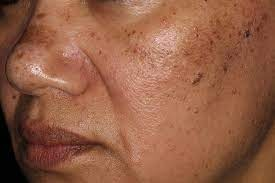Melasma: (11, 7, 275, 83), (177, 84, 246, 125)
